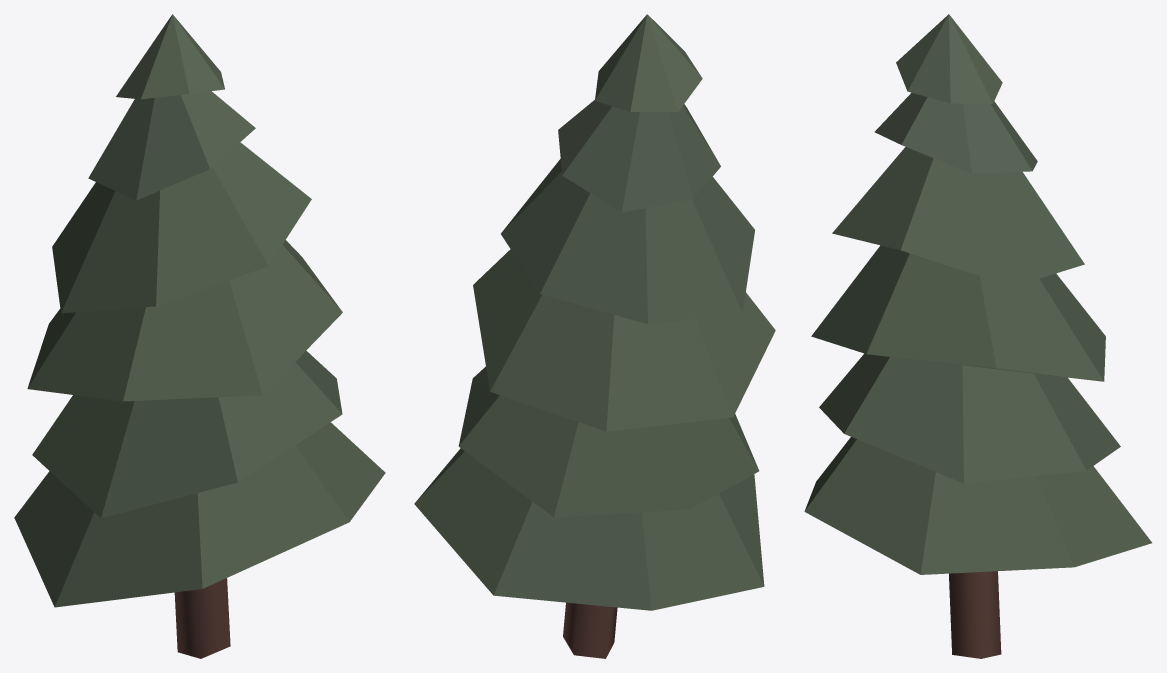
The model's file is tree-ver1.glb.
3 renders of one model, left to right at view 1: azimuth 30°, elevation 25°; view 2: azimuth 150°, elevation 25°; view 3: azimuth 270°, elevation 25°, orthographic. The views are drawn at different scales.
Visible parts, largest first — view 1: Tree-ver1_Texture-base_0; view 2: Tree-ver1_Texture-base_0; view 3: Tree-ver1_Texture-base_0.
Boxes of the visible parts, bbox=[...] form: Tree-ver1_Texture-base_0: bbox=[14, 14, 385, 658]; Tree-ver1_Texture-base_0: bbox=[414, 14, 775, 658]; Tree-ver1_Texture-base_0: bbox=[804, 14, 1151, 658].
Size of the model in its own units: 2.58 by 5.1 by 2.58.
1 material, 1 textured.
